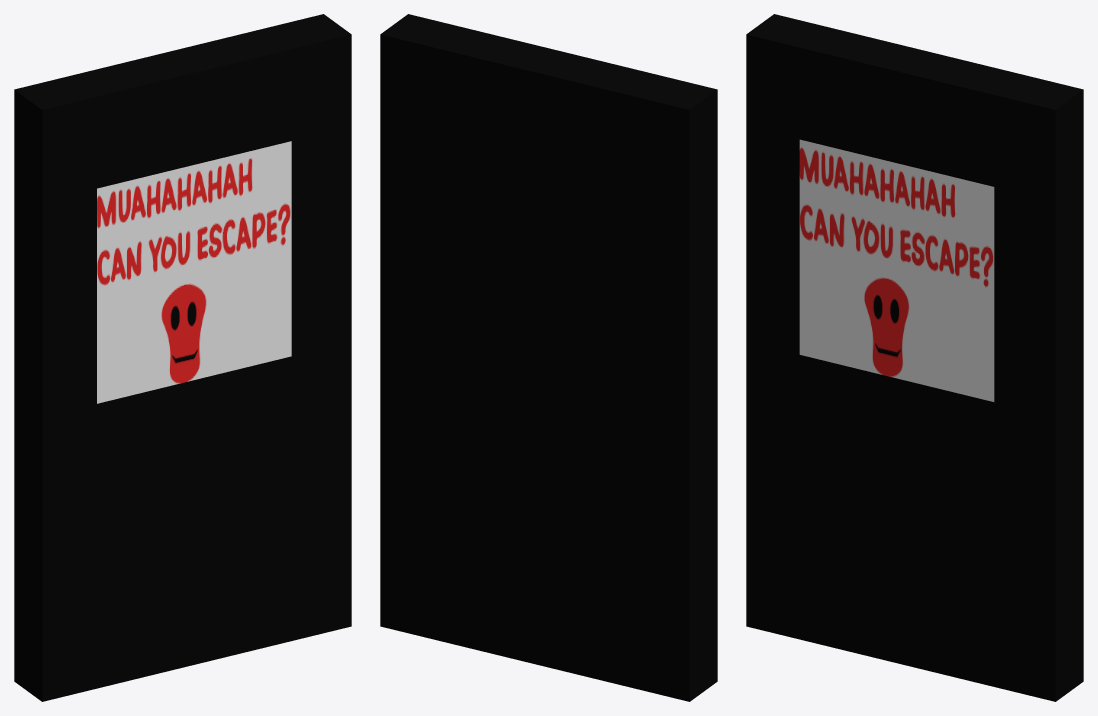
File: 3D Escape Room.fbx
The picture shows the model from 3 angles, left to right: view 1: azimuth 30°, elevation 25°; view 2: azimuth 150°, elevation 25°; view 3: azimuth 330°, elevation 25°; orthographic projection.
Parts seen in each view (by area): view 1: Cube.012; view 2: Cube.012; view 3: Cube.012.
Part boxes in pixels (box(x1,y1,x2,y2)): Cube.012: box(14, 14, 351, 701); Cube.012: box(380, 14, 717, 701); Cube.012: box(746, 14, 1083, 701).
Size of the model in its own units: 91.18 by 167 by 14.59.
